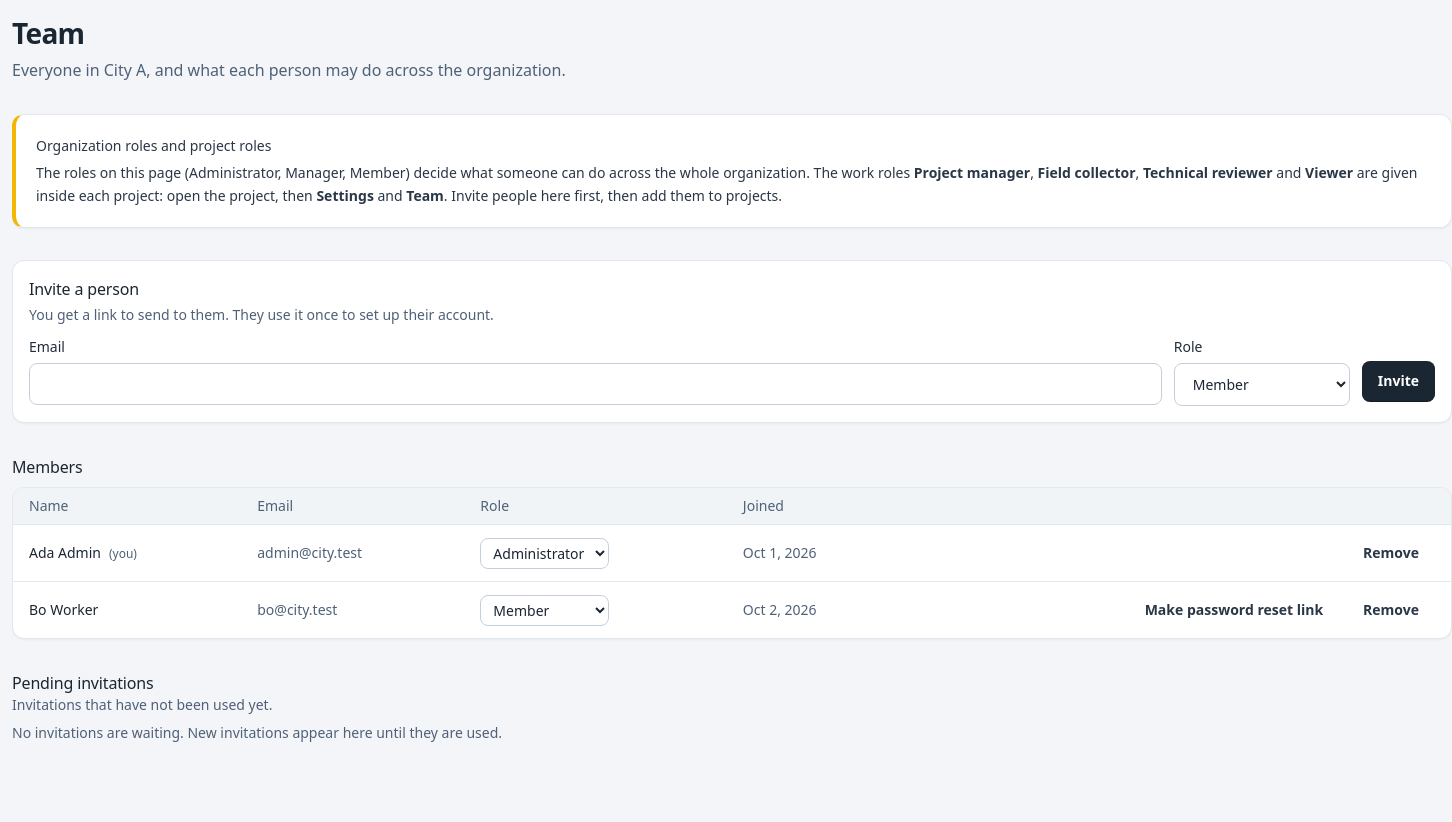
Test: TeamPage › asks for confirmation before removing someone
Step 1. Click the button "Remove" in the row of "Bo Worker" → (1391, 610), box [1347,590,1435,630]
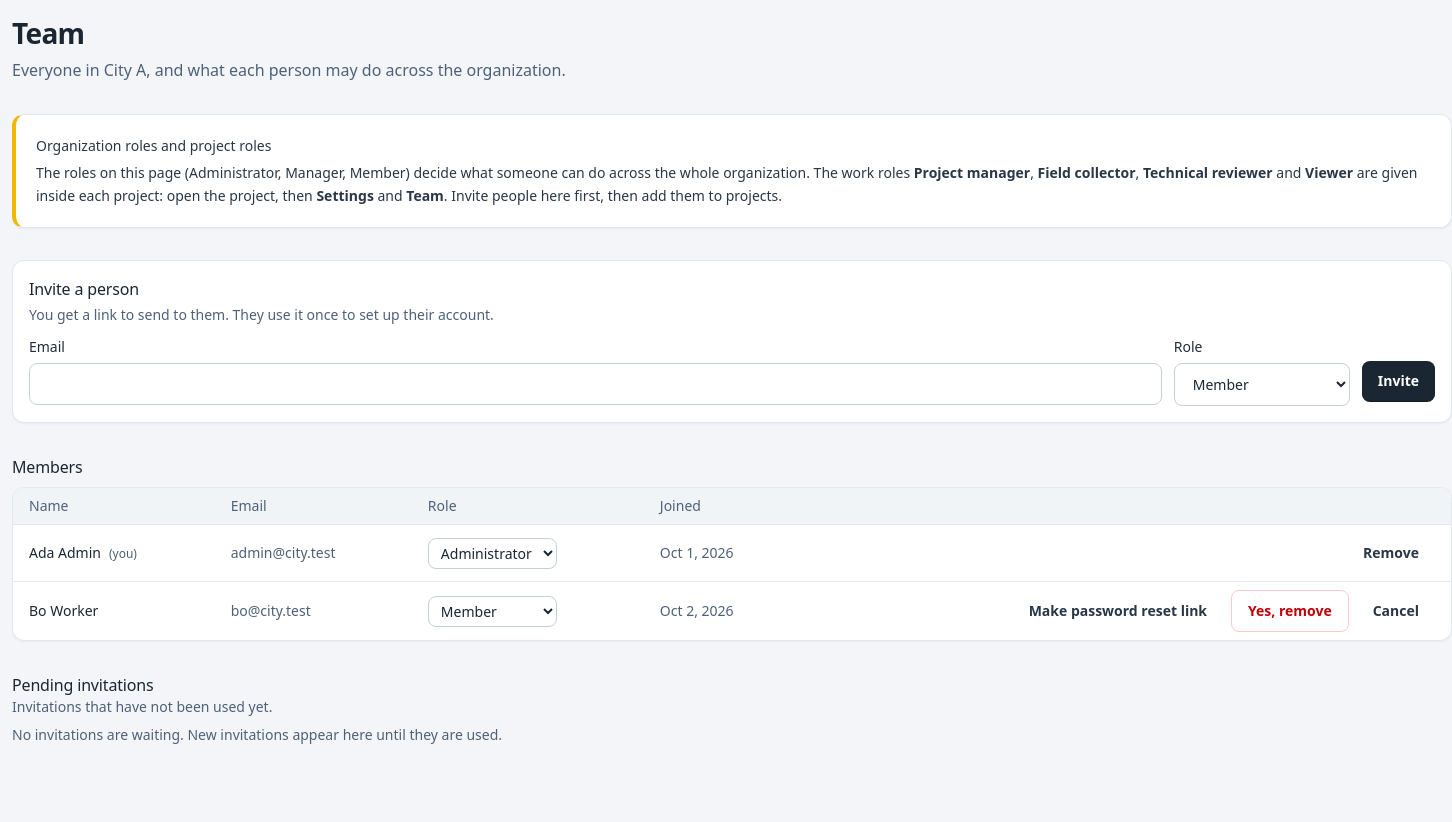
Now the button "Yes, remove" is shown, box [1231,590,1349,632]
Now the button "Cancel" is shown, box [1357,590,1435,632]
